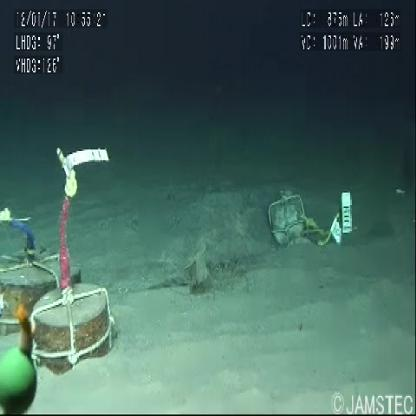Rác: (178, 230, 228, 304)
